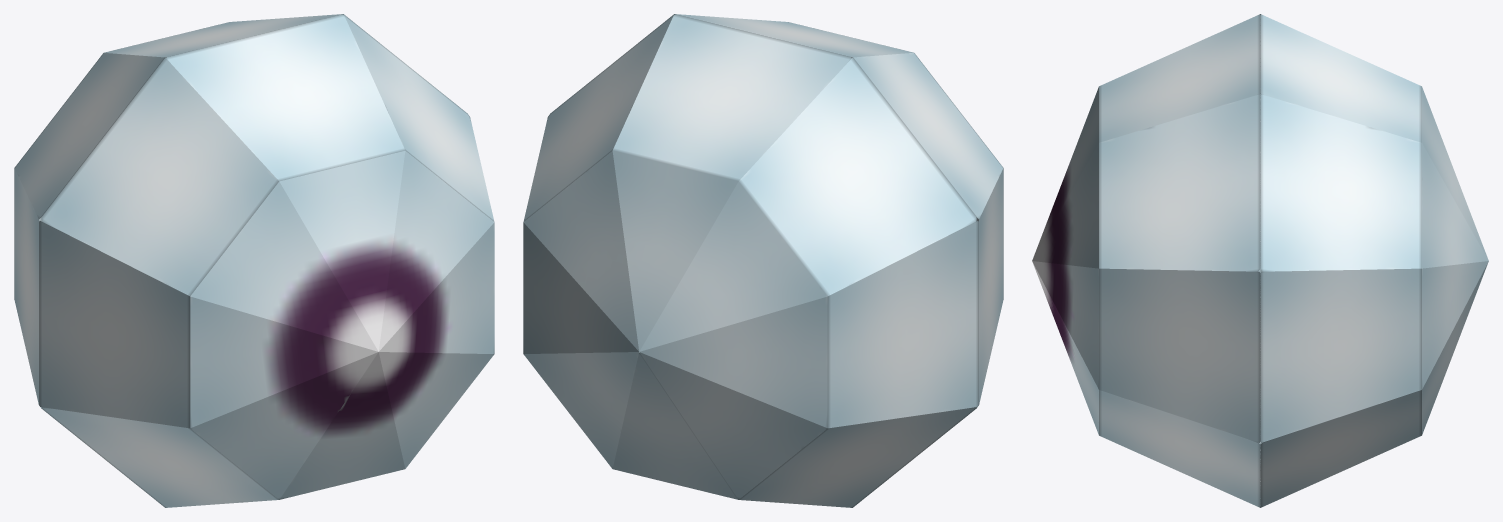
File: angelModel.fbx
3 renders of one model, left to right at view 1: azimuth 30°, elevation 25°; view 2: azimuth 150°, elevation 25°; view 3: azimuth 270°, elevation 25°, orthographic. The views are drawn at different scales.
Visible parts, largest first — view 1: sphere; view 2: sphere; view 3: sphere.
Boxes of the visible parts, bbox=[...] form: sphere: bbox=[14, 14, 494, 507]; sphere: bbox=[523, 14, 1003, 507]; sphere: bbox=[1032, 14, 1488, 507].
Size of the model in its own units: 100 by 100 by 100.
Materials: 1 (1 with a texture image).
